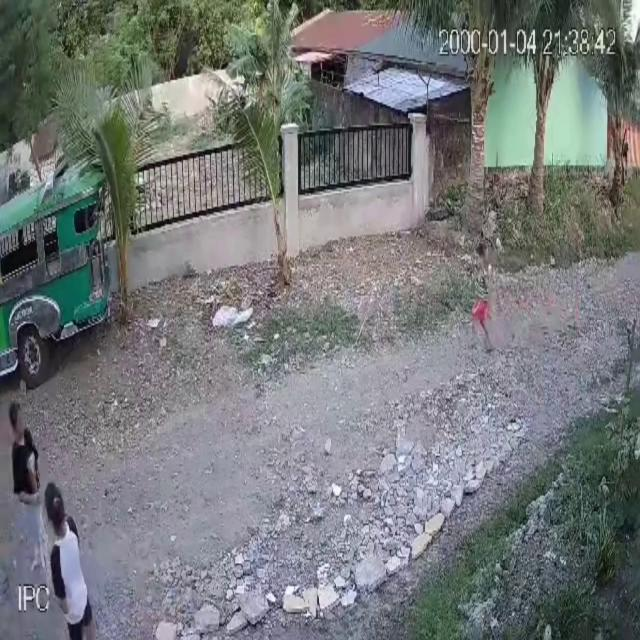running: (464, 239, 506, 362)
walking: (0, 395, 56, 601), (39, 481, 102, 640), (620, 126, 630, 190)
